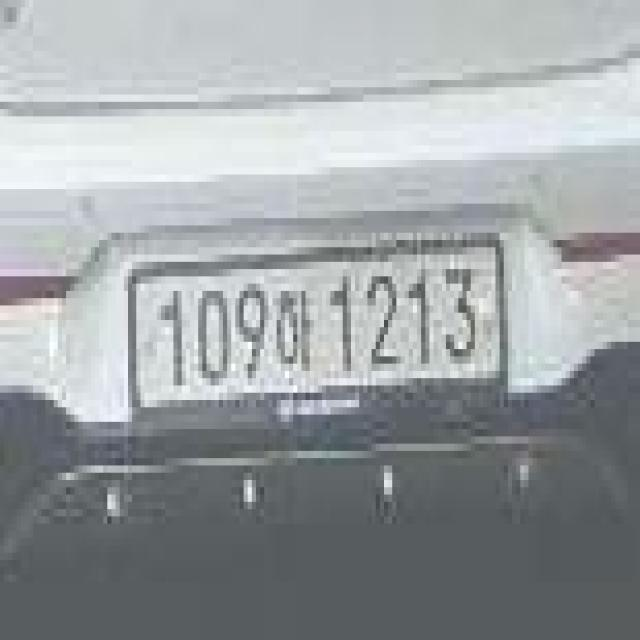illegal_plate: (124, 233, 513, 428)
